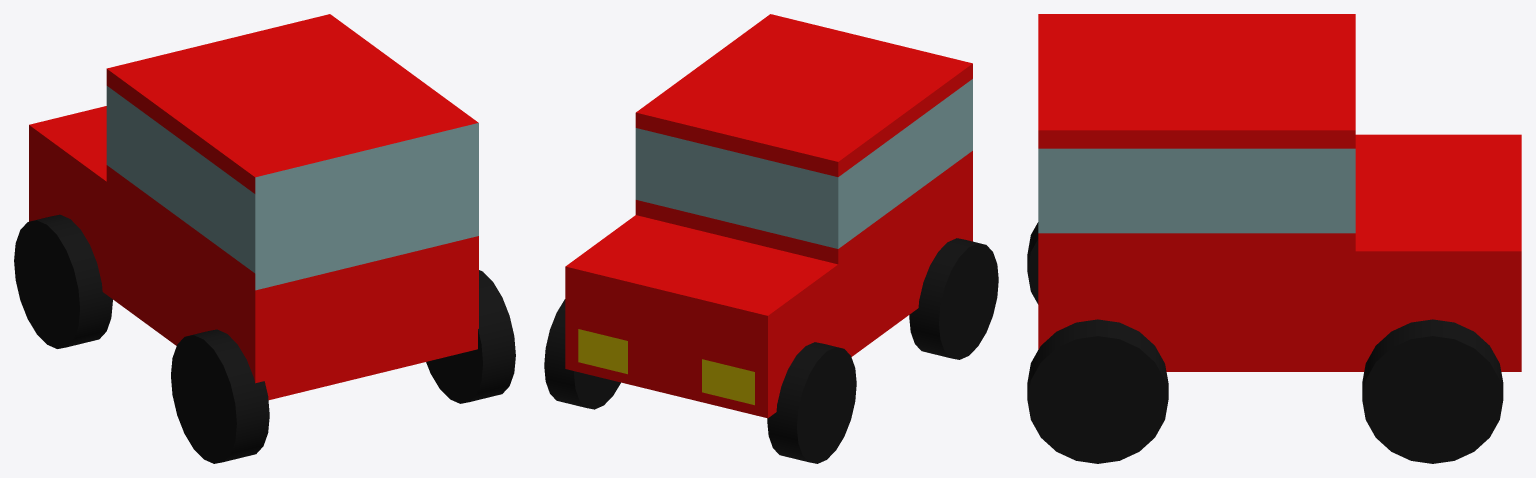
File: Car2.fbx
The picture shows the model from 3 angles, left to right: view 1: azimuth 30°, elevation 25°; view 2: azimuth 150°, elevation 25°; view 3: azimuth 270°, elevation 25°; orthographic projection. The views are drawn at different scales.
Visible parts, largest first — view 1: Car2; view 2: Car2; view 3: Car2.
Boxes of the visible parts, left/top/right/bottom form: Car2: left=14, top=14, right=515, bottom=463; Car2: left=544, top=14, right=998, bottom=463; Car2: left=1027, top=14, right=1521, bottom=463.
Bounding box in the file's own units: 3.73 × 3.79 × 5.35.
